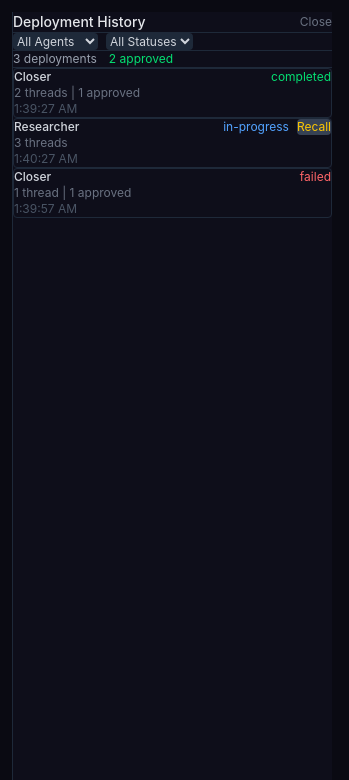
Test case: Deployment history filters › shows no-match message when filters exclude all
The width and height of the screenshot is (349, 780).
Select "Scheduler" in the dropdown with test id "filter-role" at [56, 42], box [13,33,98,50]
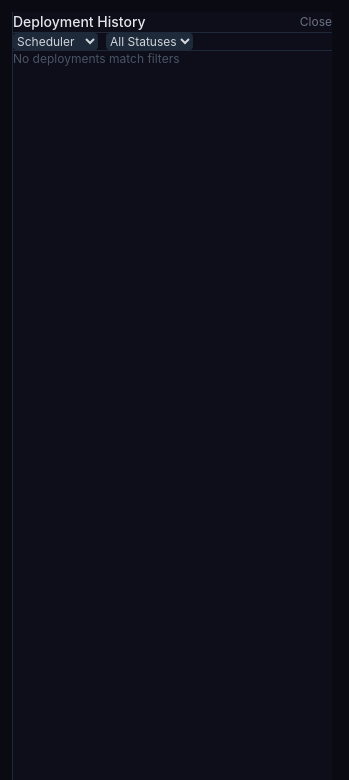
Expected: the text "No deployments match filters" is shown, [13,51,180,66]
